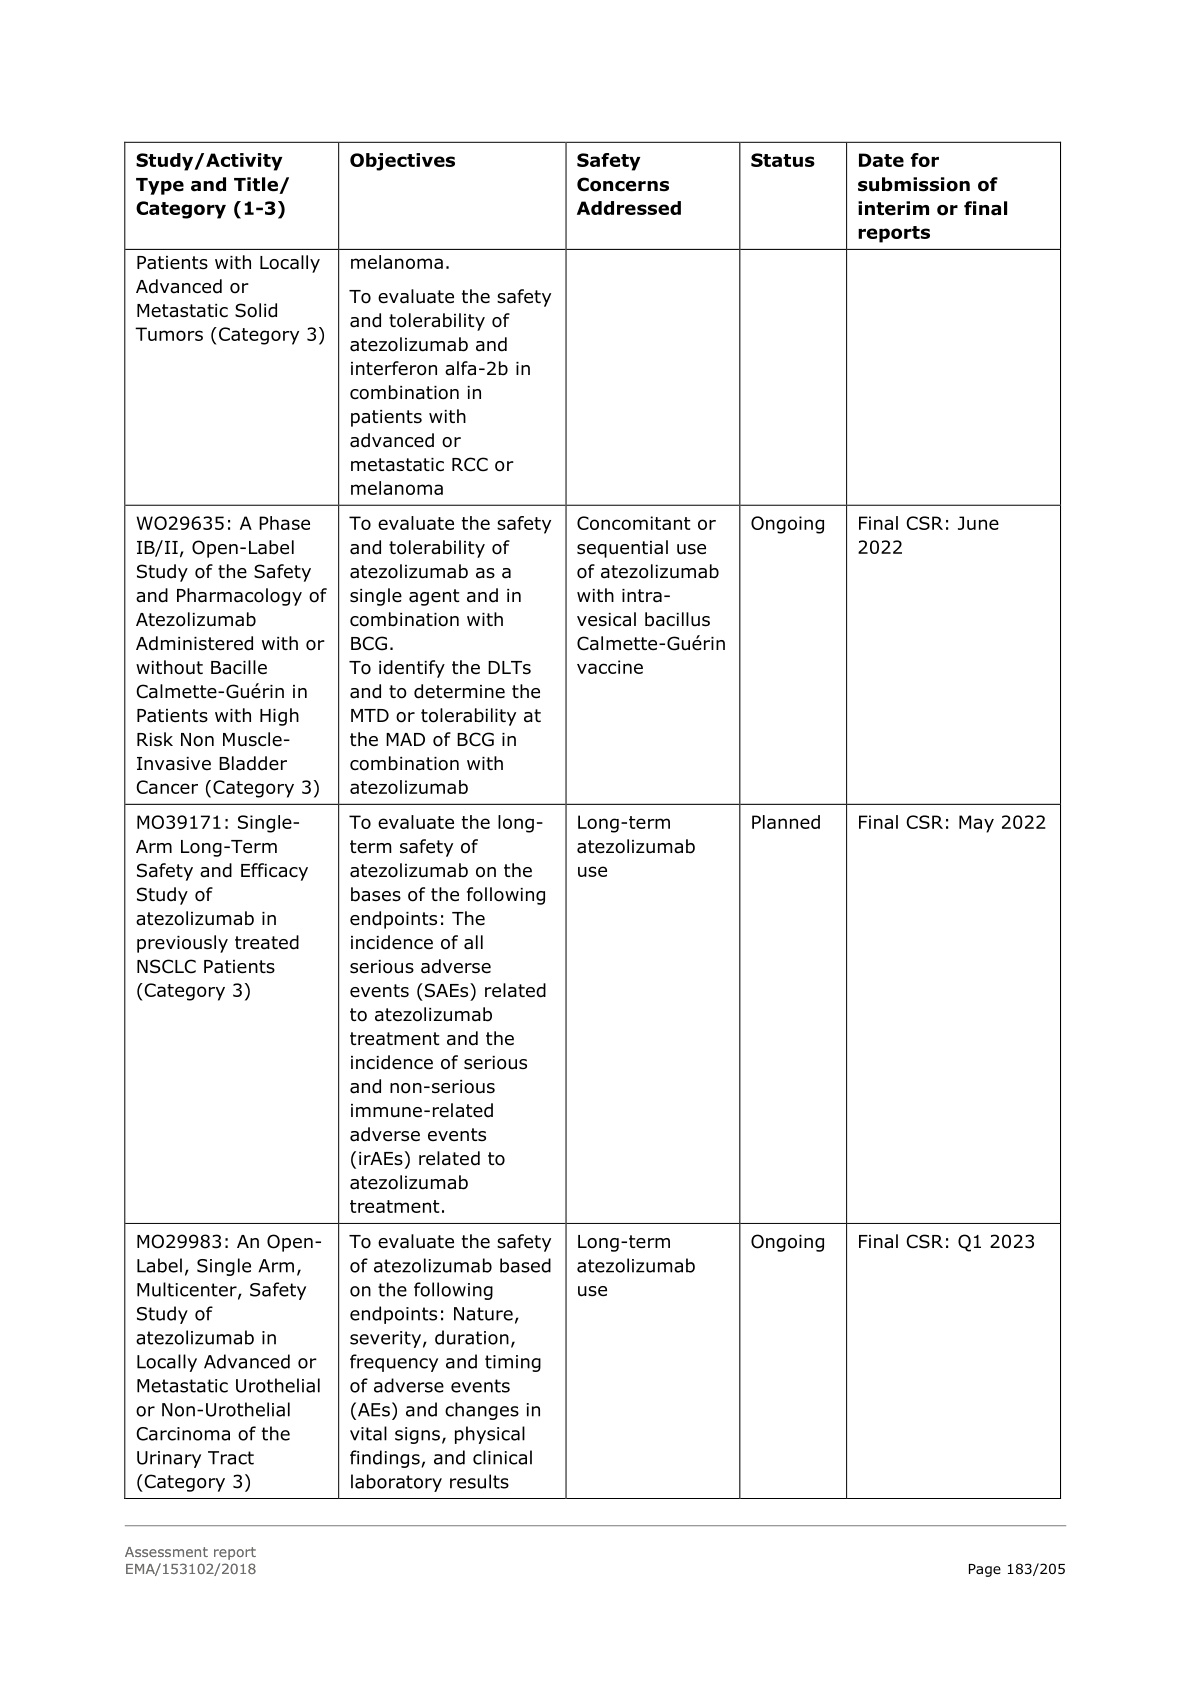full_lined: (122, 140, 1062, 1500)
